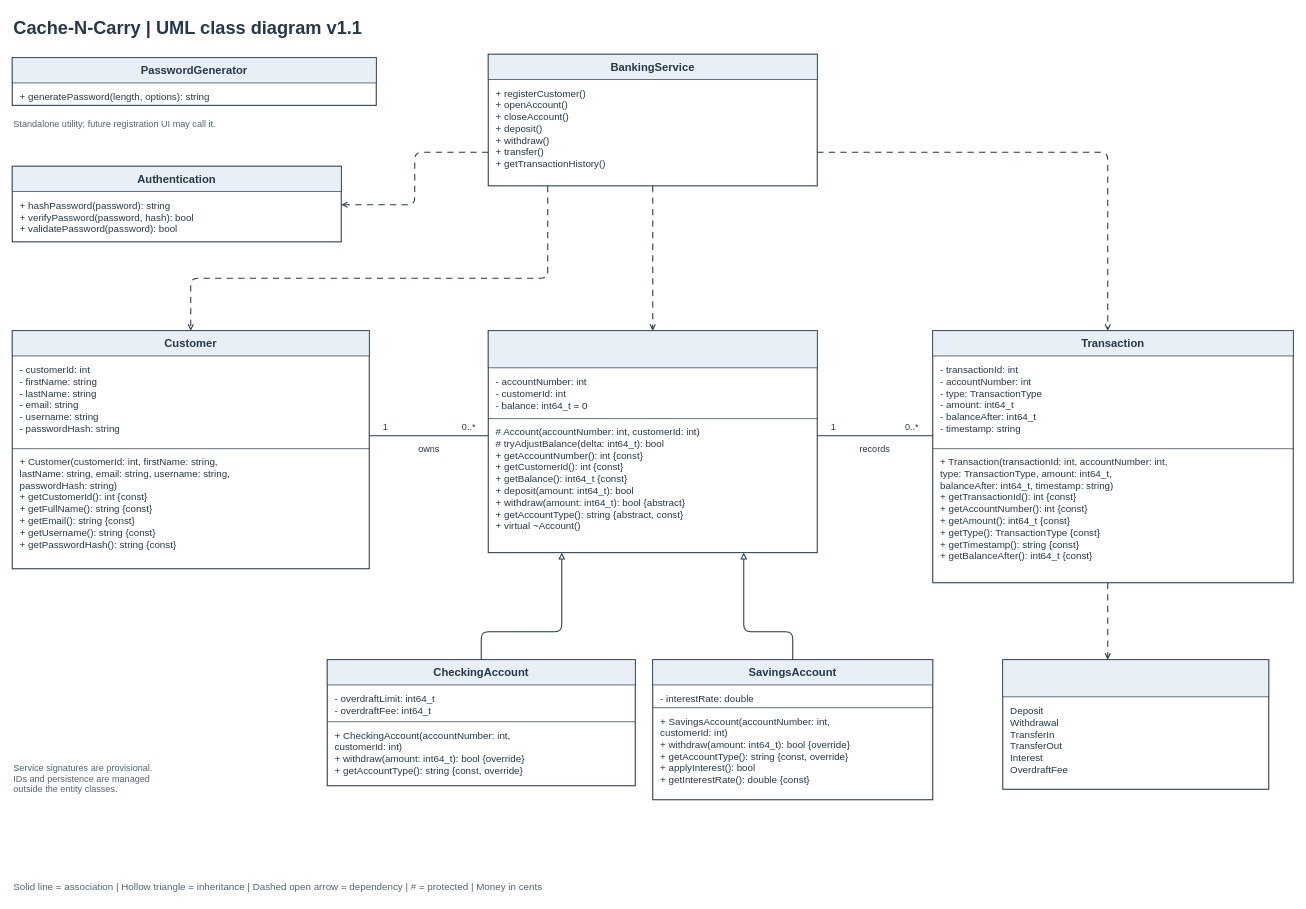
This 1306x909 diagram has some shape labels left out. Here are the shapes that lost their labels. From the top down, the centre of each, then its label:
point (652, 349): «abstract» Account
point (1135, 678): «enumeration» TransactionType
